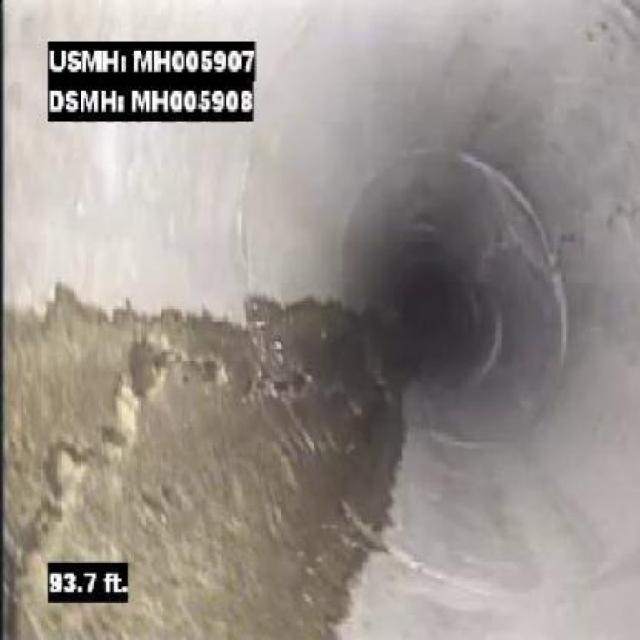Crack: (4, 310, 188, 632), (199, 335, 343, 414), (546, 206, 639, 257)
